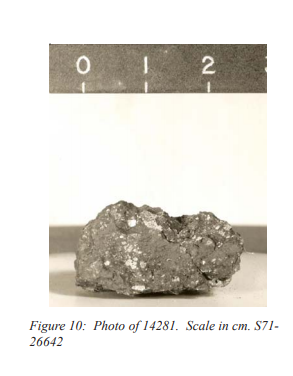Breccia: (59, 174, 250, 306)
